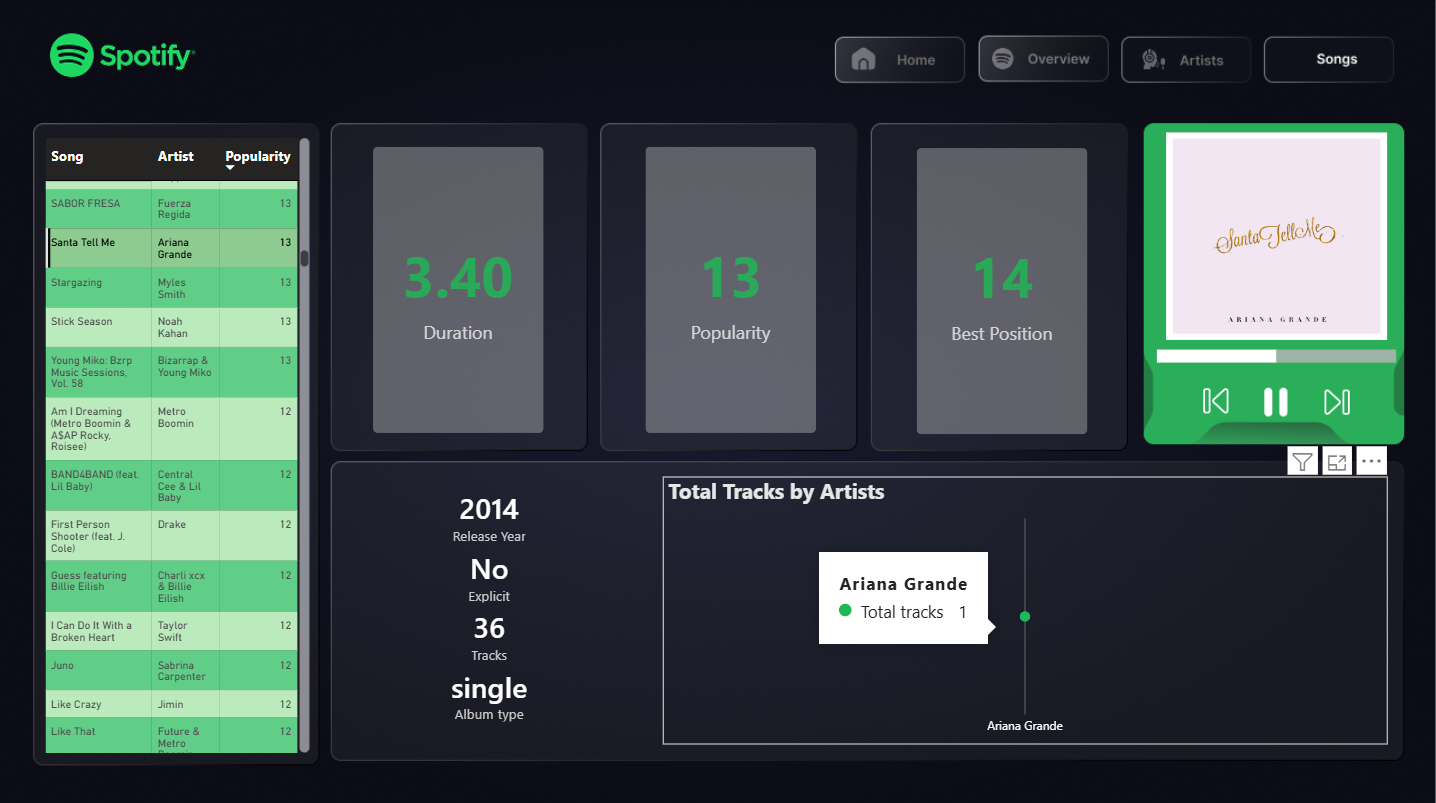

What the dashboard file says about the page in this screenshot:
{"tool":"powerbi","page":{"name":"Songs","canvas":[1280,720],"ordinal":3},"visuals":[{"type":"actionButton","box":[741.2,30,116.7,43.3],"z":0},{"type":"actionButton","box":[871.2,30,116.7,43.3],"z":1000},{"type":"actionButton","box":[999.6,30,116.7,43.3],"z":2000},{"type":"actionButton","box":[1127.9,30,116.7,43.3],"z":3000},{"type":"tableEx","fields":{"Values":["Top-50-World.song","Top-50-World.artist","Count(Top-50-World.popularity)"]},"box":[35.7,118.6,245.7,557.1],"z":4000},{"type":"cardVisual","fields":{"Data":["Top-50-World.Song Duration"]},"box":[294,112,230,293],"z":5000},{"type":"cardVisual","fields":{"Data":["Count(Top-50-World.popularity)"]},"box":[537,112,230,293],"z":6000},{"type":"cardVisual","fields":{"Data":["Count(Top-50-World.position)"]},"box":[778,113,230,293],"z":7000},{"type":"advancedSlicerVisual","title":"Song and Artist","fields":{"Values":["Top-50-World.song"]},"box":[1013,112,249,197],"z":8000},{"type":"image","box":[1070.5,345.6,25.7,25.7],"z":9000},{"type":"image","box":[1178.9,345.7,25.7,25.7],"z":10000},{"type":"image","box":[1124.6,345.7,25.7,25.7],"z":11000},{"type":"cardVisual","fields":{"Data":["Top-50-World.Release Year Selected","Top-50-World.Explicit Label","_Measures.Total Songs","Min(Top-50-World.album_type)"]},"box":[281.4,417.1,310,248],"z":12000},{"type":"hundredPercentStackedBarChart","fields":{"Y":["_Measures.Avg Popularity","Avg(Top-50-World.popularity)"]},"box":[1026.2,283.8,223.1,61.5],"z":13000},{"type":"stackedAreaChart","title":"Total Tracks by Artists","fields":{"Y":["Count(Top-50-World.total_tracks)"],"Category":["Top-50-World.artist"]},"box":[591.1,425.6,645.6,238.9],"z":13001}]}

Visuals, with their boxes in screenshot pixels (x1, y1, x2, y2), scaled from the page's 1280x720 canvas onto the 1436x803 screenshot:
actionButton: [832, 33, 962, 82]
actionButton: [977, 33, 1108, 82]
actionButton: [1121, 33, 1252, 82]
actionButton: [1265, 33, 1396, 82]
tableEx - Top-50-World.song x Top-50-World.artist: [40, 132, 316, 754]
cardVisual - Top-50-World.Song Duration: [330, 125, 588, 452]
cardVisual - Count(Top-50-World.popularity): [602, 125, 860, 452]
cardVisual - Count(Top-50-World.position): [873, 126, 1131, 453]
"Song and Artist" advancedSlicerVisual: [1136, 125, 1416, 345]
image: [1201, 385, 1230, 414]
image: [1323, 386, 1351, 414]
image: [1262, 386, 1290, 414]
cardVisual - Top-50-World.Release Year Selected x Top-50-World.Explicit Label: [316, 465, 663, 742]
hundredPercentStackedBarChart - _Measures.Avg Popularity x Avg(Top-50-World.popularity): [1151, 317, 1402, 385]
"Total Tracks by Artists" stackedAreaChart: [663, 475, 1387, 741]
